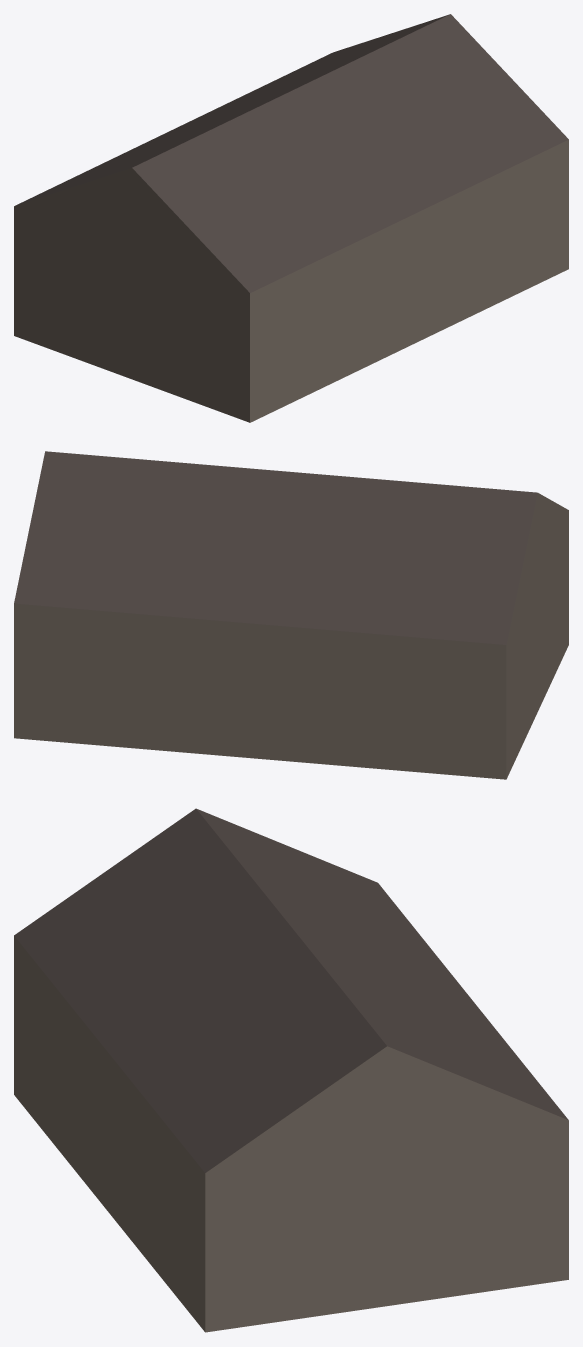
The picture shows the model from 3 angles, top to bottom: view 1: azimuth 30°, elevation 25°; view 2: azimuth 150°, elevation 25°; view 3: azimuth 270°, elevation 25°; orthographic projection. The views are drawn at different scales.
Visible parts, largest first — view 1: HP-w859457311; view 2: HP-w859457311; view 3: HP-w859457311.
Part boxes in pixels (<box>): HP-w859457311: <box>14,14,568,422</box>; HP-w859457311: <box>14,451,568,779</box>; HP-w859457311: <box>14,808,568,1332</box>.
Size of the model in its own units: 23.47 by 9.79 by 18.95.
